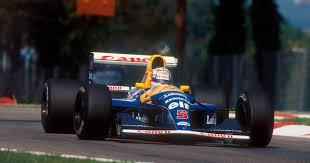f1_car: (35, 46, 281, 154)
